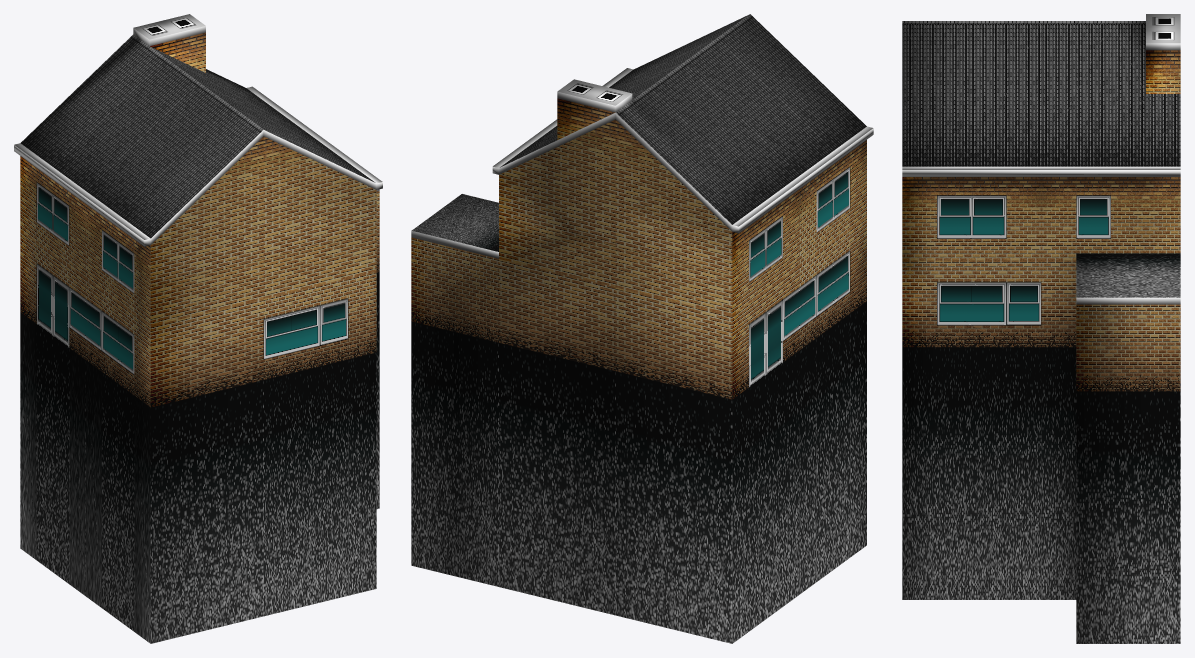
File: doorzon_mod1_1b.fbx
The picture shows the model from 3 angles, left to right: view 1: azimuth 30°, elevation 25°; view 2: azimuth 150°, elevation 25°; view 3: azimuth 270°, elevation 25°; orthographic projection. The views are drawn at different scales.
Parts seen in each view (by area): view 1: doorzon_mod1_1b; view 2: doorzon_mod1_1b; view 3: doorzon_mod1_1b.
Part boxes in pixels (x1,y1,x2,y2): doorzon_mod1_1b: [14, 14, 382, 643]; doorzon_mod1_1b: [411, 14, 873, 643]; doorzon_mod1_1b: [902, 14, 1180, 643].
Size of the model in its own units: 1262 by 1879 by 900.
